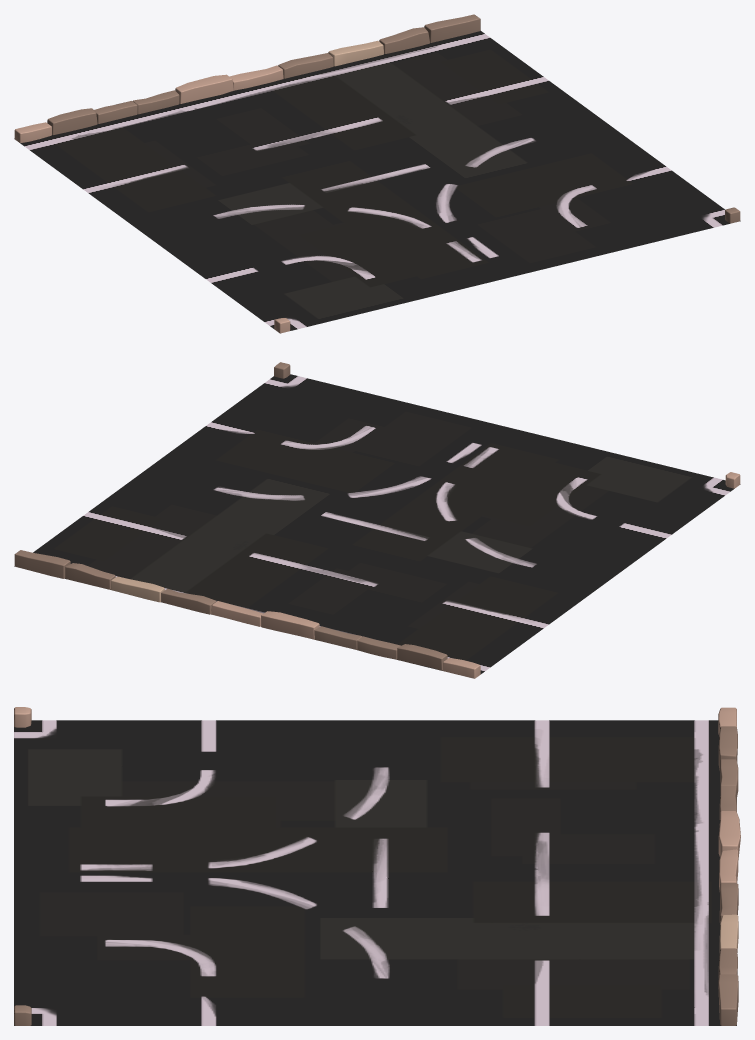
File: CityRoad_tripleCrossroadWide_1.fbx
3 renders of one model, top to bottom at view 1: azimuth 30°, elevation 25°; view 2: azimuth 150°, elevation 25°; view 3: azimuth 270°, elevation 25°, orthographic. The views are drawn at different scales.
Visible parts, largest first — view 1: CityRoad_tripleCrossroadWide_1_mesh; view 2: CityRoad_tripleCrossroadWide_1_mesh; view 3: CityRoad_tripleCrossroadWide_1_mesh.
Part boxes in pixels (x1,y1,x2,y2): CityRoad_tripleCrossroadWide_1_mesh: (14, 14, 740, 333); CityRoad_tripleCrossroadWide_1_mesh: (14, 362, 740, 678); CityRoad_tripleCrossroadWide_1_mesh: (14, 707, 740, 1025).
Bounding box in the file's own units: 1000 × 28.55 × 1006.
